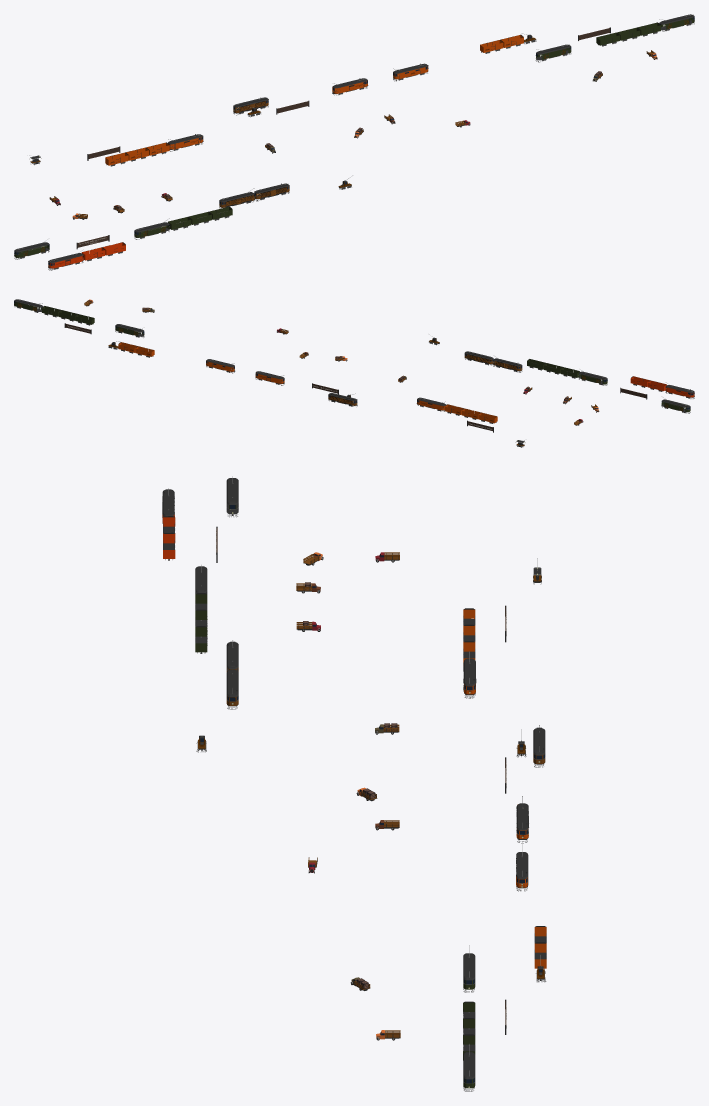
File: Decorations-v1.glb
The picture shows the model from 3 angles, top to bottom: view 1: azimuth 30°, elevation 25°; view 2: azimuth 150°, elevation 25°; view 3: azimuth 270°, elevation 25°; orthographic projection. The views are drawn at different scales.
Parts seen in each view (by area): view 1: Decorations; view 2: Decorations; view 3: Decorations.
Part boxes in pixels (left/top/right/bottom): Decorations: left=14, top=14, right=694, bottom=270; Decorations: left=14, top=299, right=694, bottom=447; Decorations: left=162, top=476, right=546, bottom=1091.
Size of the model in its own units: 306 by 5.17 by 82.7.
44 materials, 18 textured.
